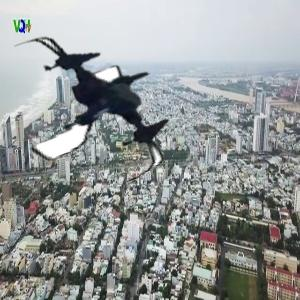drone: (11, 22, 181, 192)
